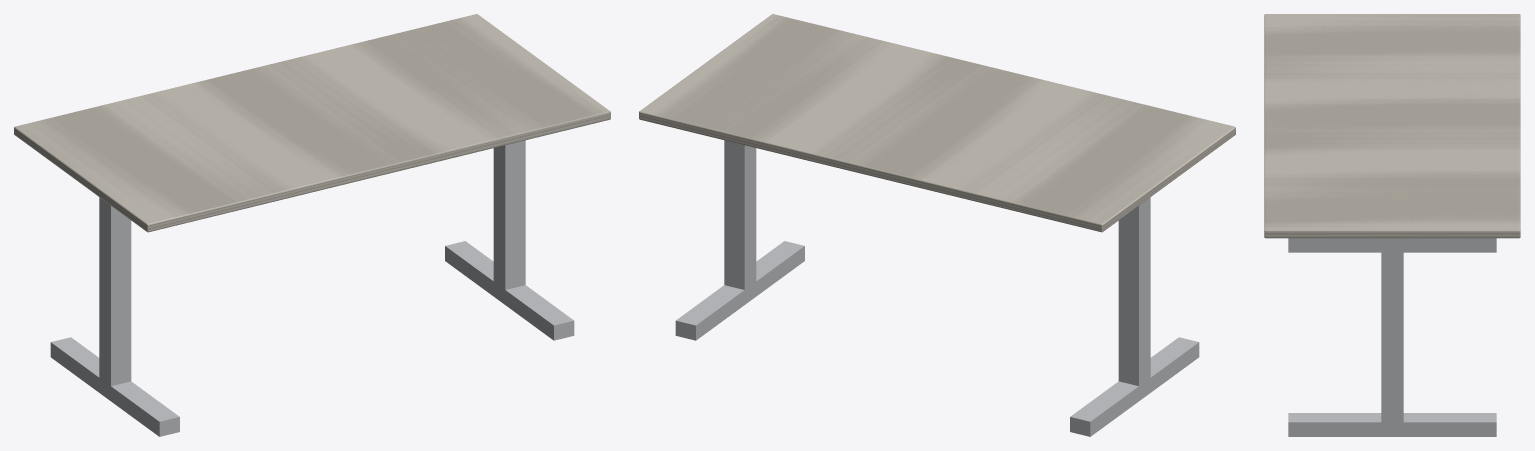
The model's file is desk_2_sitstand.fbx.
3 renders of one model, left to right at view 1: azimuth 30°, elevation 25°; view 2: azimuth 150°, elevation 25°; view 3: azimuth 270°, elevation 25°, orthographic. The views are drawn at different scales.
Parts seen in each view (by area): view 1: top, col1, col-1, foot1, foot-1; view 2: top, col1, col-1, foot1, foot-1; view 3: top, foot-1, col-1, foot1.
Part boxes in pixels (box(x1,y1,x2,y2)): top: box(14, 14, 610, 232); col1: box(99, 197, 131, 385); col-1: box(493, 140, 525, 289); foot1: box(50, 337, 179, 436); foot-1: box(445, 241, 574, 340); top: box(639, 14, 1235, 232); col1: box(1118, 197, 1150, 385); col-1: box(724, 140, 756, 289); foot1: box(1070, 337, 1199, 436); foot-1: box(675, 241, 804, 340); top: box(1264, 14, 1520, 238); foot-1: box(1288, 413, 1496, 436); col-1: box(1381, 238, 1403, 422); foot1: box(1288, 238, 1496, 252).
Bounding box in the file's own units: 160 × 75 × 80.
Materials: 2 (1 with a texture image).
